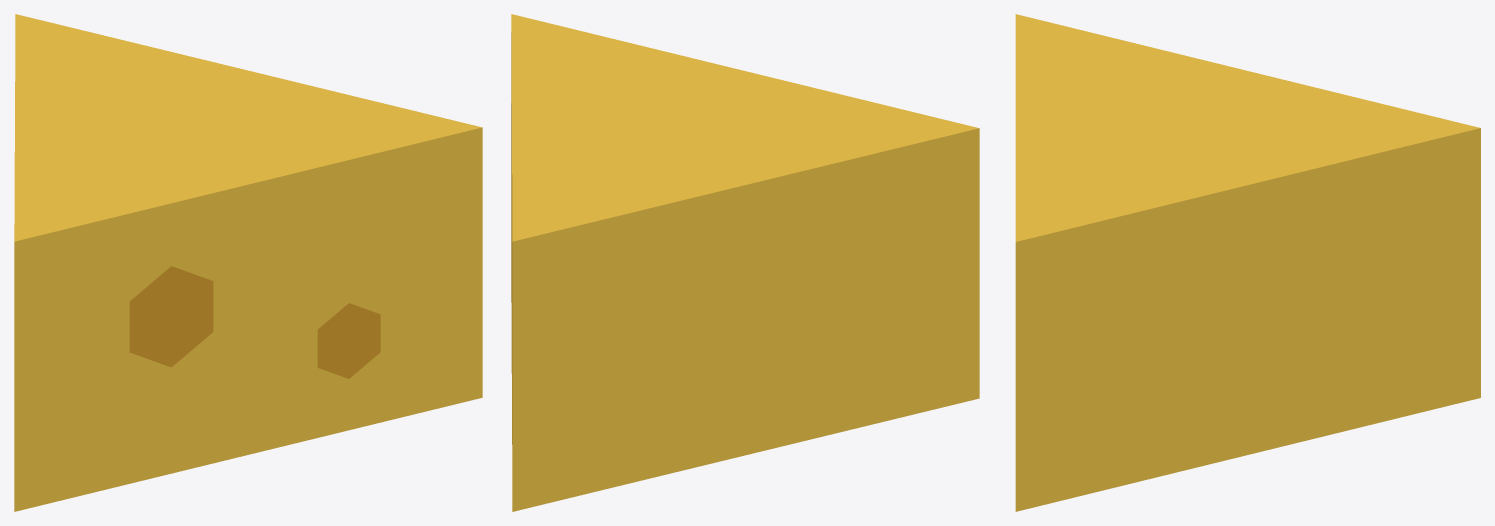
The model's file is Cheese.fbx.
The picture shows the model from 3 angles, left to right: view 1: azimuth 30°, elevation 25°; view 2: azimuth 150°, elevation 25°; view 3: azimuth 270°, elevation 25°; orthographic projection.
Parts seen in each view (by area): view 1: Cheese; view 2: Cheese; view 3: Cheese.
Part boxes in pixels (x1,y1,x2,y2): Cheese: (14, 14, 482, 511); Cheese: (511, 14, 979, 511); Cheese: (1015, 14, 1480, 511).
Bounding box in the file's own units: 0.058 × 0.032 × 0.0508.
